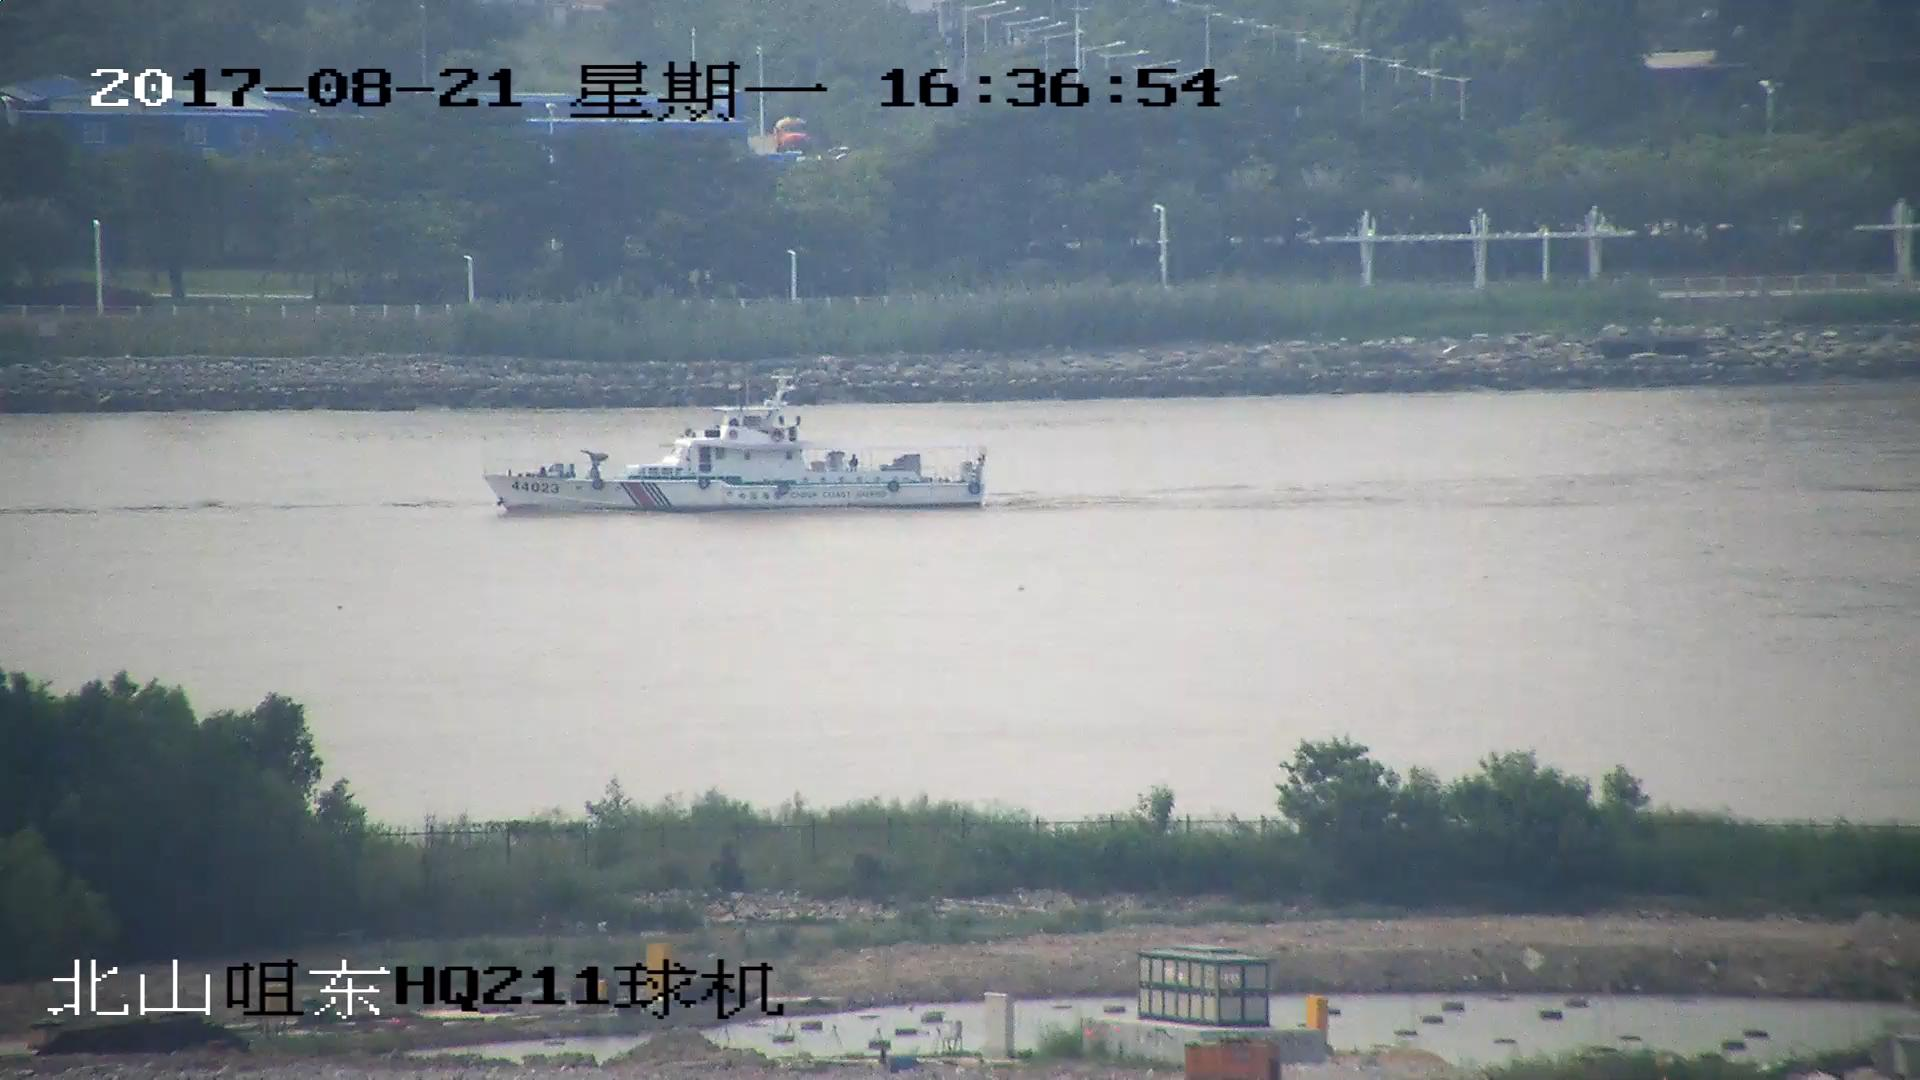passenger ship: (482, 373, 990, 513)
